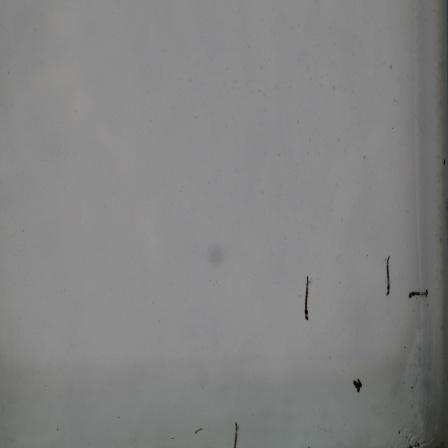Jentik-Nyamuk: (301, 273, 313, 323), (383, 254, 396, 299), (406, 285, 433, 301), (350, 373, 366, 396), (231, 417, 241, 448)
